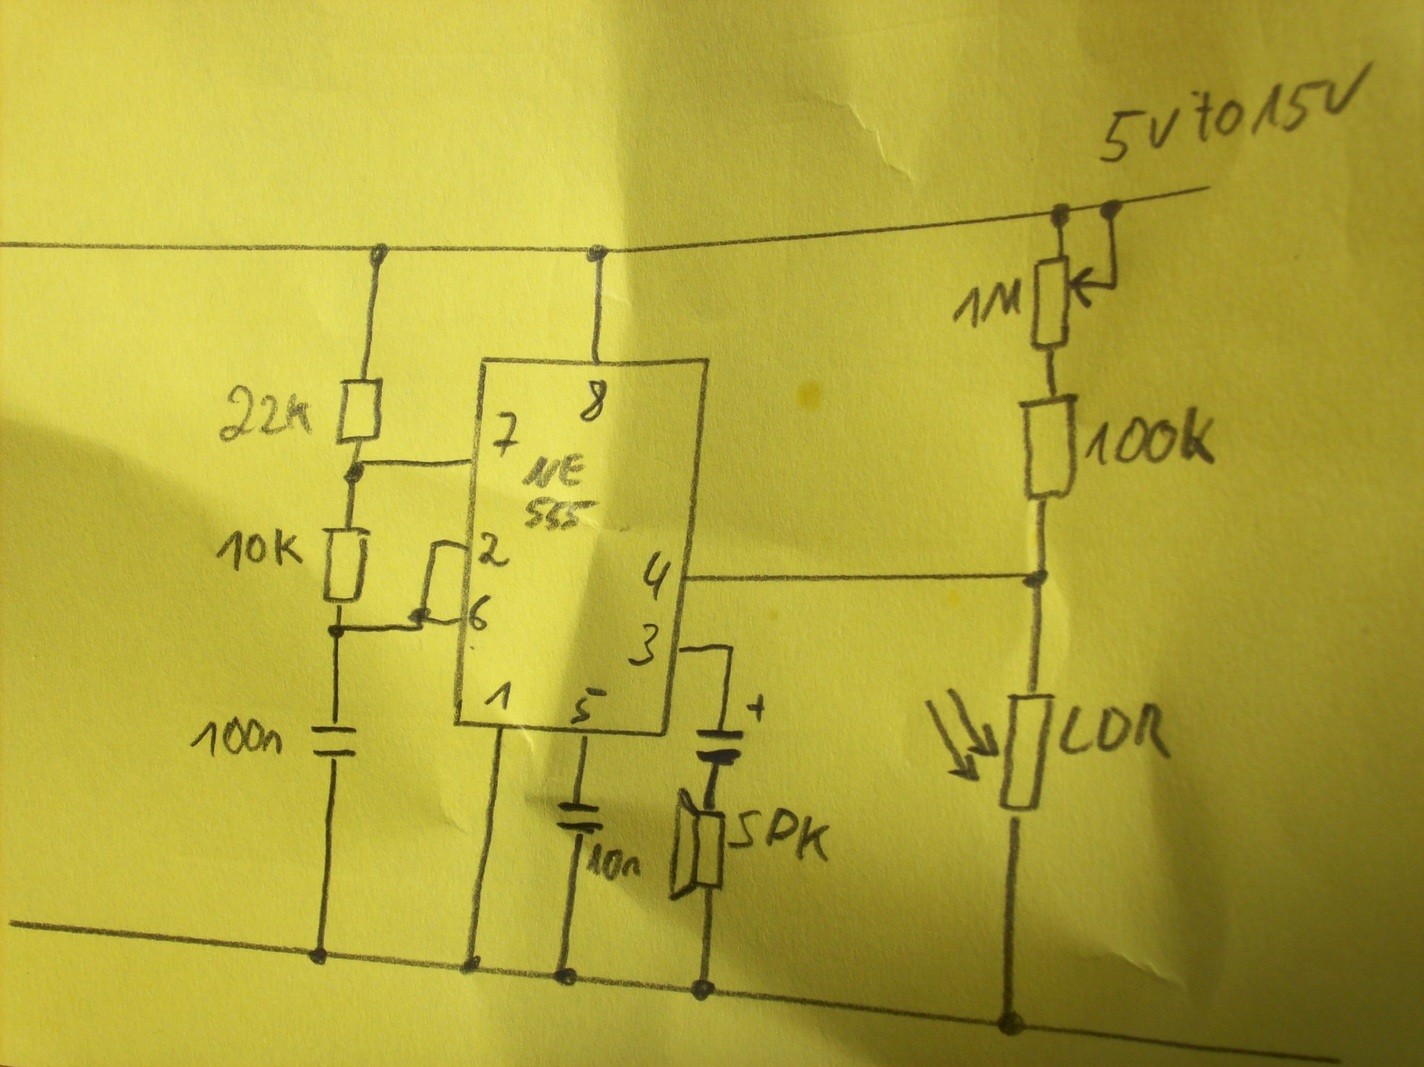capacitor.polarized: (695, 692, 767, 769)
capacitor.unpolarized: (308, 720, 361, 766), (555, 799, 606, 838)
integrated_cricuit.ne555: (450, 355, 710, 740)
junction: (994, 1009, 1029, 1039), (1020, 566, 1052, 593), (407, 605, 435, 635), (1048, 200, 1073, 230), (342, 458, 367, 488), (688, 977, 717, 1003), (549, 965, 579, 990), (1096, 197, 1124, 223), (366, 242, 391, 270), (583, 242, 609, 266), (456, 955, 484, 977), (306, 945, 331, 967), (326, 621, 350, 641), (426, 536, 443, 553), (722, 642, 739, 655)
resistor: (1017, 389, 1082, 505), (320, 525, 372, 607), (332, 374, 387, 447)
resistor.adjustable: (1027, 249, 1121, 356)
resistor.photo: (922, 685, 1057, 823)
speaker: (666, 785, 728, 904)
terminal: (2, 915, 28, 936), (1, 236, 18, 256), (1198, 180, 1218, 196), (1323, 1054, 1344, 1067)
text: (1097, 61, 1374, 165), (1083, 405, 1223, 467), (1057, 698, 1175, 762), (519, 449, 599, 533), (726, 805, 832, 864), (216, 383, 316, 443), (214, 525, 306, 574), (188, 715, 283, 759), (951, 275, 1024, 330), (585, 842, 643, 883), (641, 549, 673, 602), (569, 684, 608, 726), (490, 409, 522, 458), (627, 621, 661, 668), (476, 529, 511, 569), (579, 378, 609, 424), (483, 679, 514, 714), (467, 592, 492, 633)
